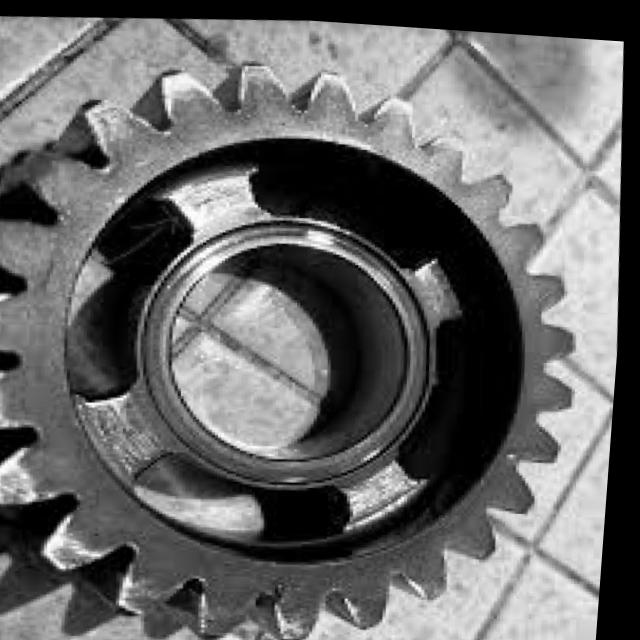Fault-Exist: (247, 568, 305, 625)
No Fault: (0, 14, 611, 572)
